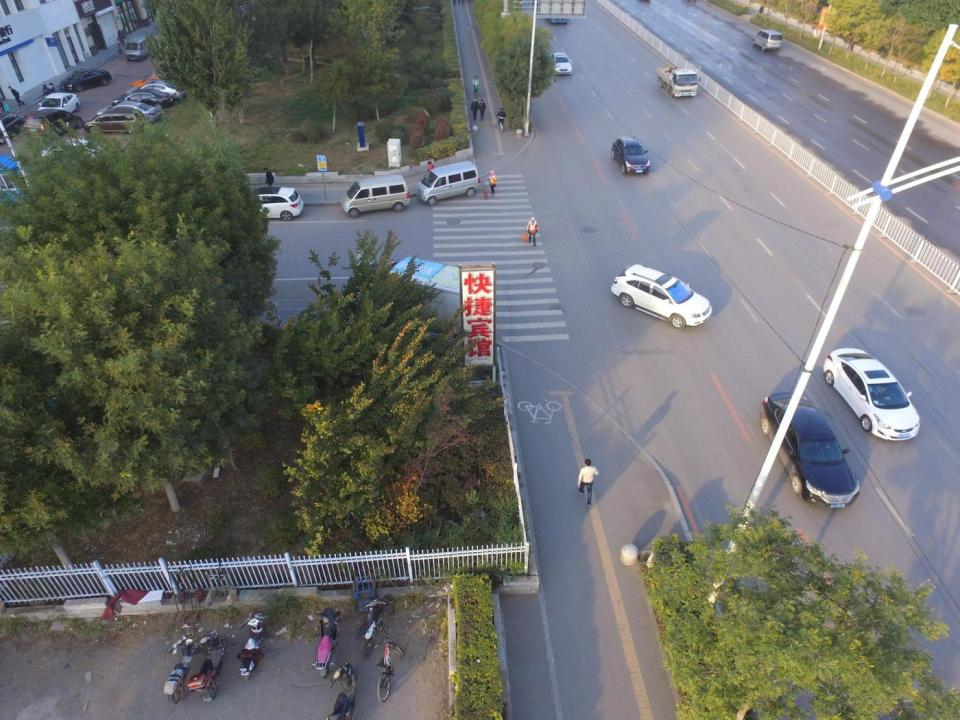car: (760, 390, 860, 508), (822, 344, 921, 440), (612, 262, 712, 331), (239, 185, 304, 221), (38, 136, 104, 166), (24, 109, 83, 136), (84, 107, 146, 132), (59, 67, 112, 93), (612, 136, 649, 173), (101, 102, 160, 124), (35, 90, 78, 118), (114, 91, 171, 110), (130, 83, 185, 101), (0, 112, 25, 143), (135, 74, 184, 89), (549, 53, 574, 76)
truck: (361, 252, 487, 338), (658, 62, 700, 98), (546, 0, 571, 25)
van: (338, 175, 411, 216), (416, 162, 480, 202), (125, 36, 158, 62), (750, 30, 785, 52)
